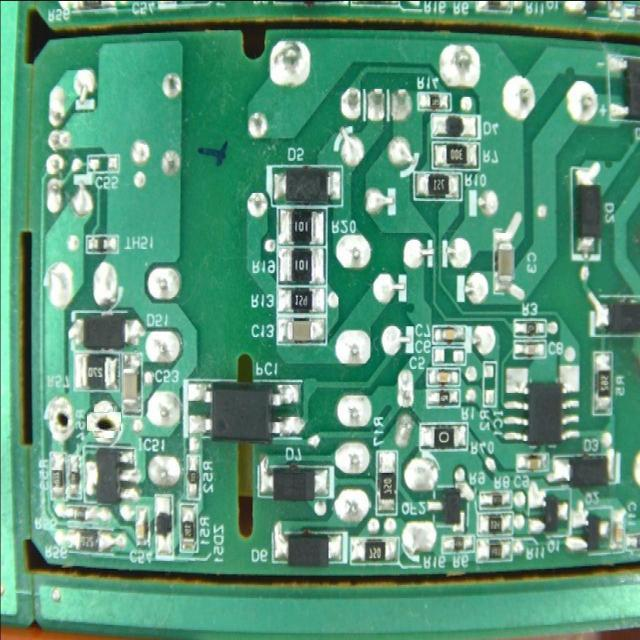damged: (90, 408, 118, 434), (50, 405, 72, 433)
